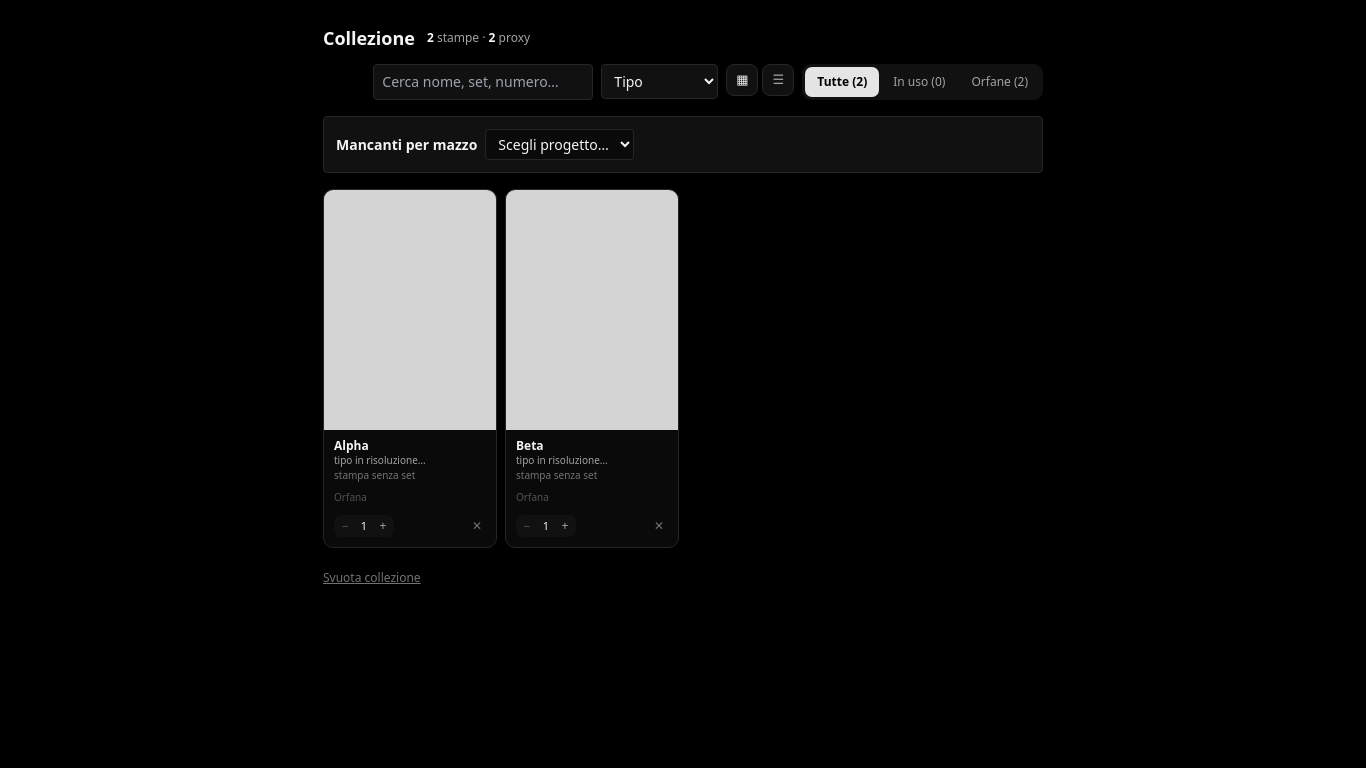
CollectionView › lightbox: Esc chiude e frecce avvolgono
The width and height of the screenshot is (1366, 768).
Click the button with test id "collection-zoom-a‖‖" at coordinates (410, 310), box top-left (324, 190), bottom-right (496, 430)
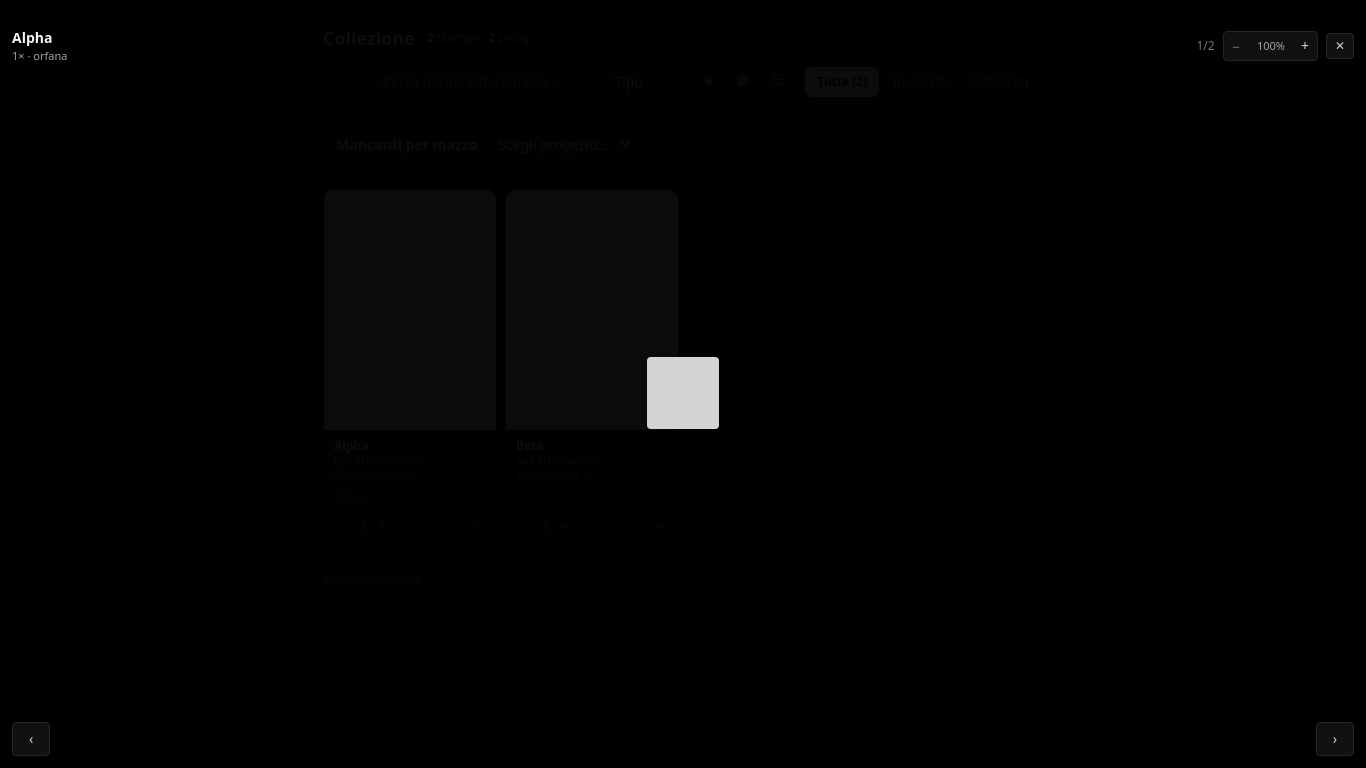
Now the text with test id "art-lightbox-count" reads "1/2", box top-left (1196, 38), bottom-right (1215, 54)
Press ArrowLeft
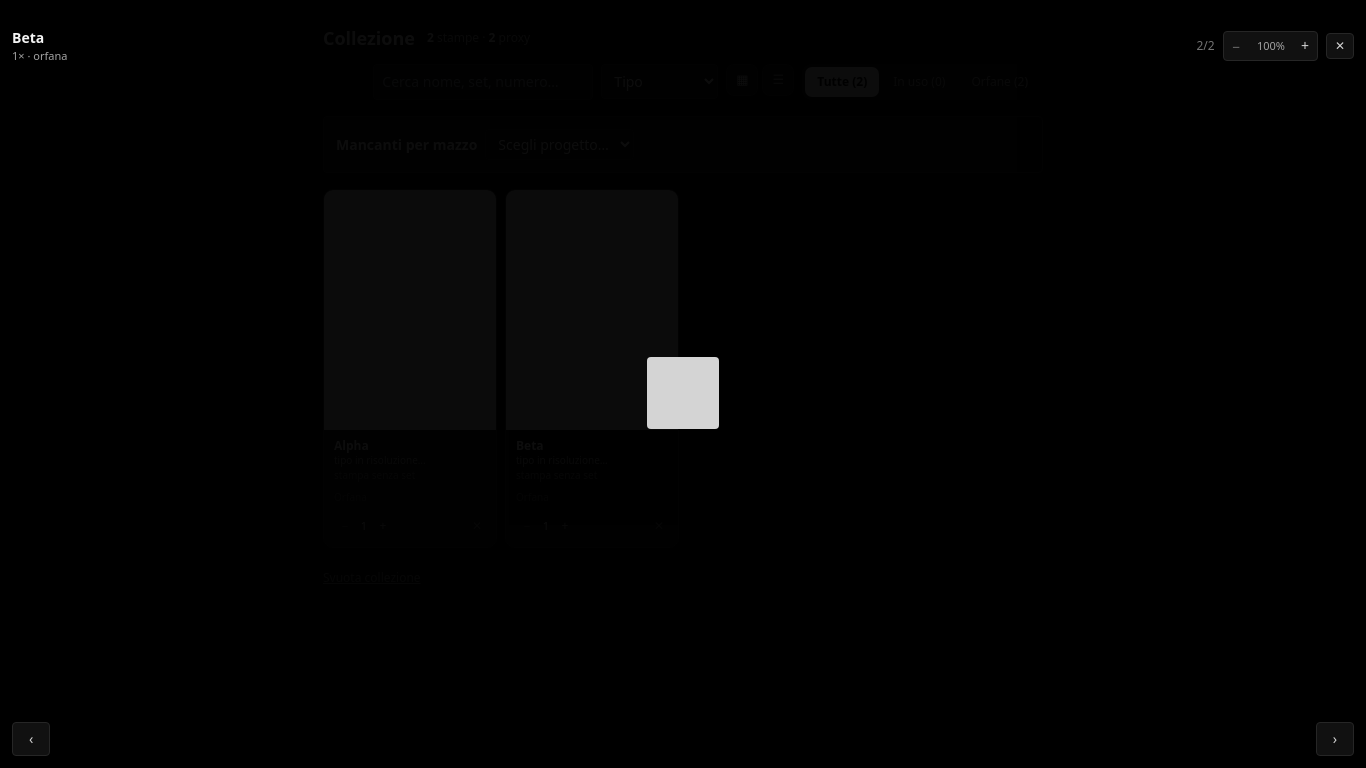
Now the text with test id "art-lightbox-count" reads "2/2", box top-left (1196, 38), bottom-right (1215, 54)
Press Escape
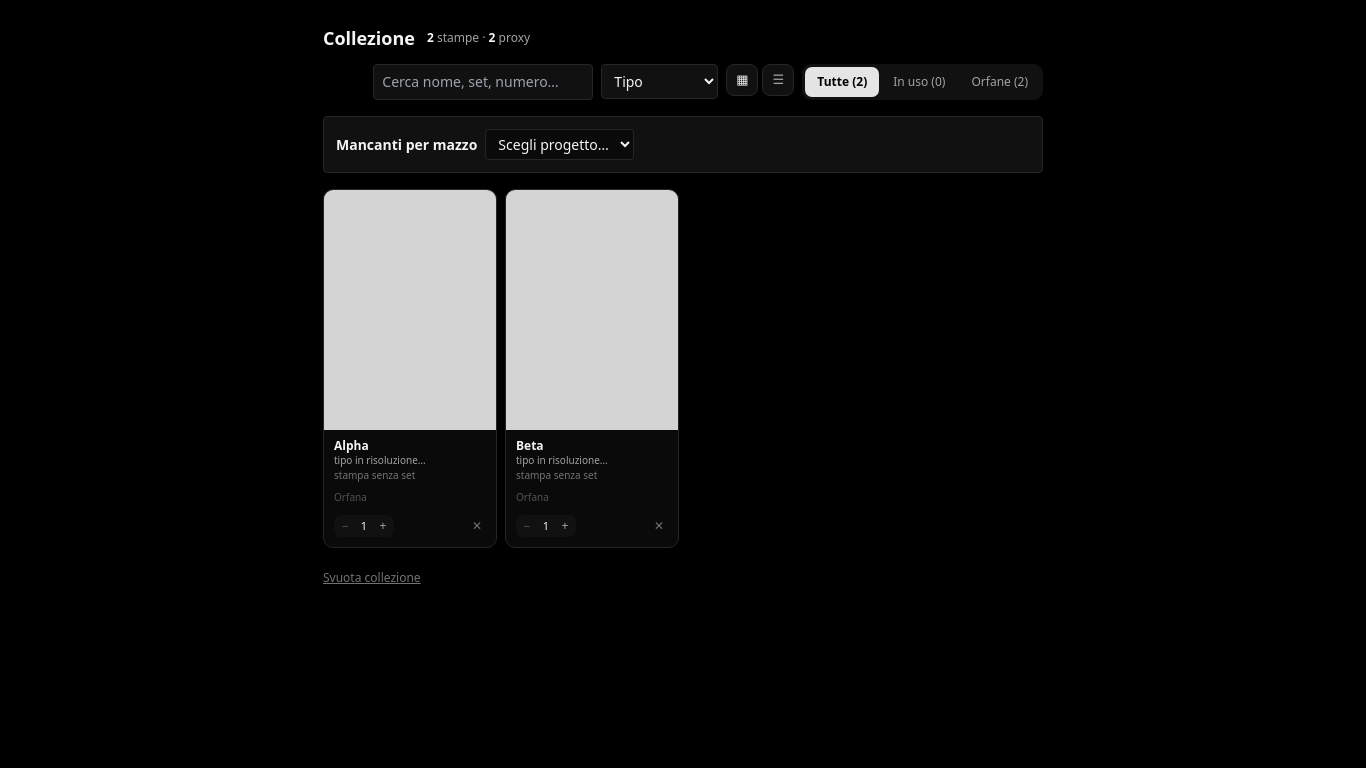
Now the element with test id "art-lightbox" is gone
